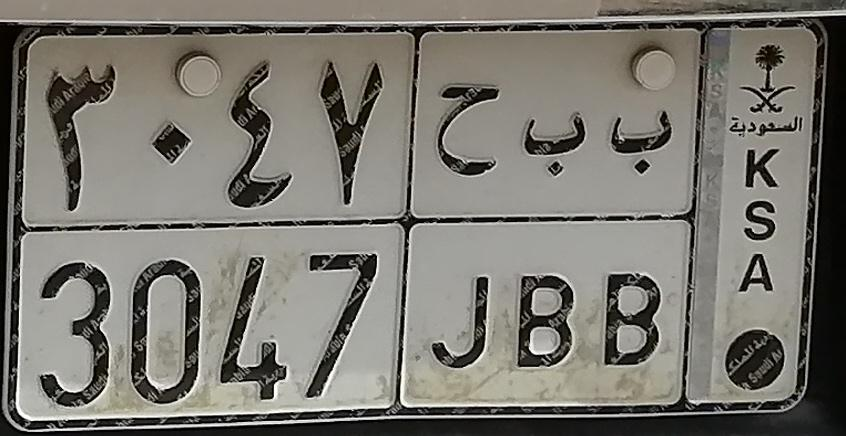0: (124, 116, 208, 409)
3: (31, 63, 123, 413)
4: (215, 55, 295, 405)
7: (299, 56, 389, 400)
B: (596, 108, 679, 370), (509, 112, 591, 372)
J: (429, 80, 506, 374)
